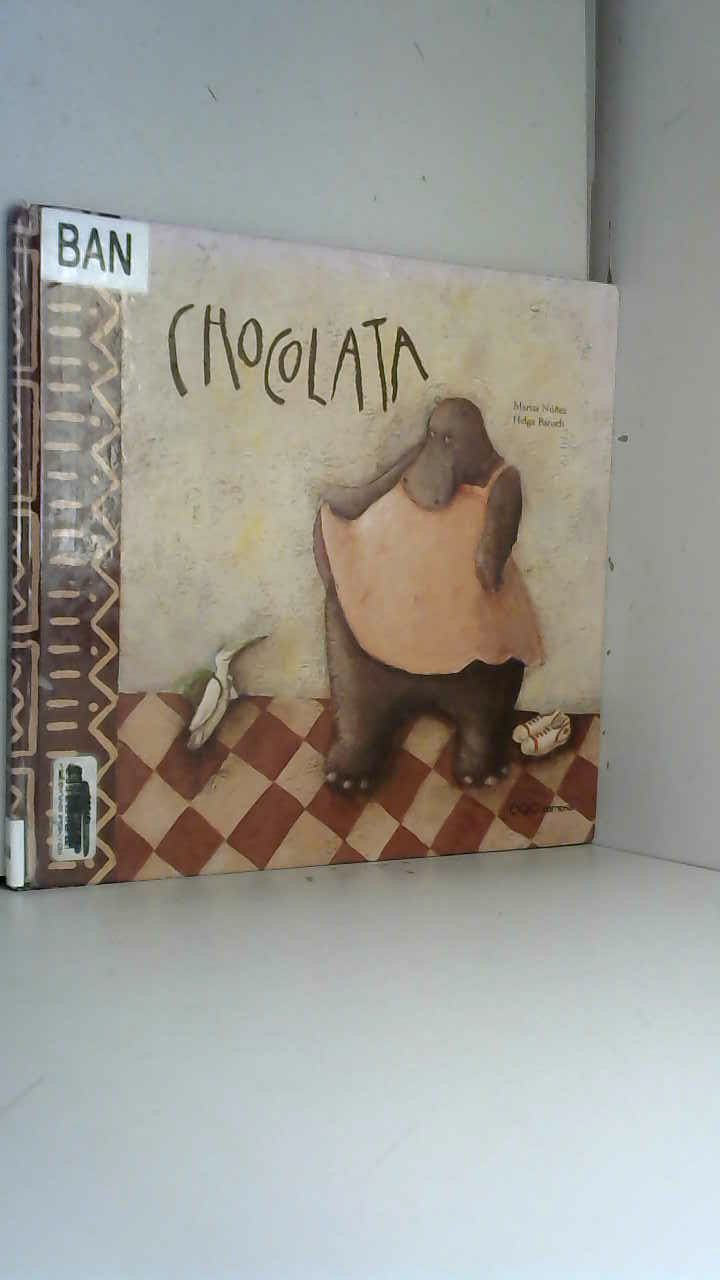book: (0, 162, 658, 915)
